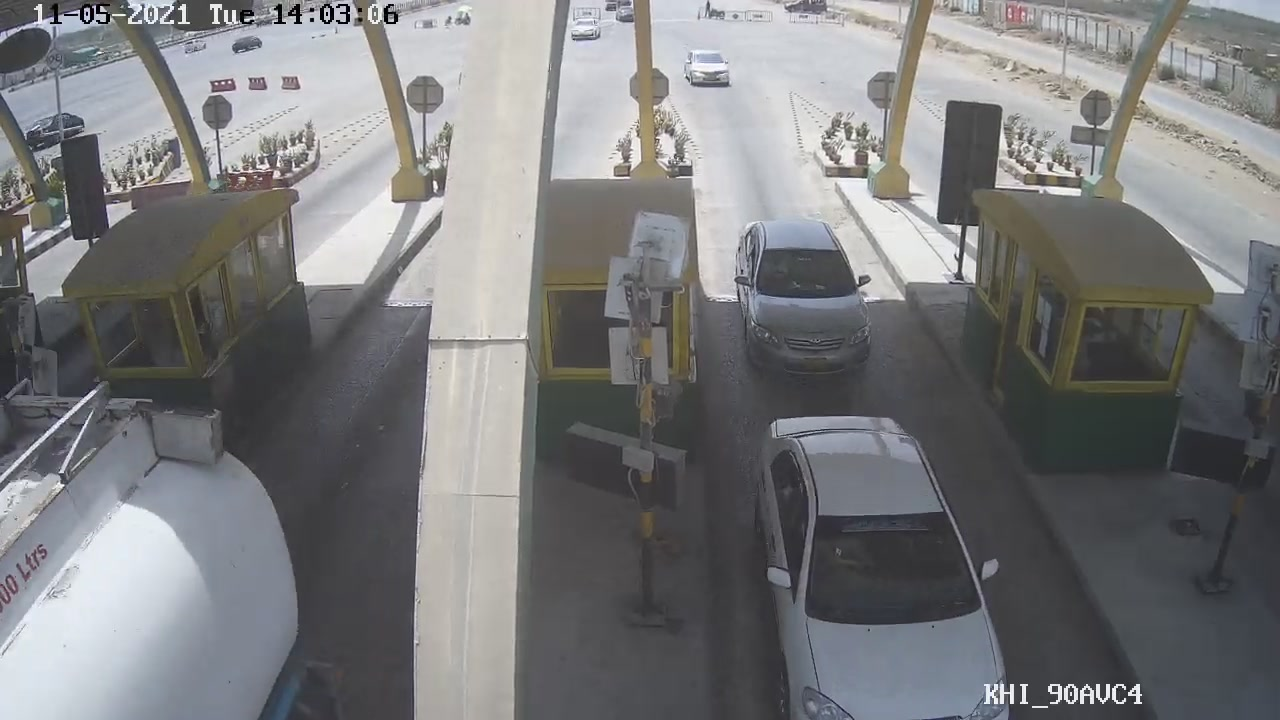F1: (726, 209, 881, 390)
